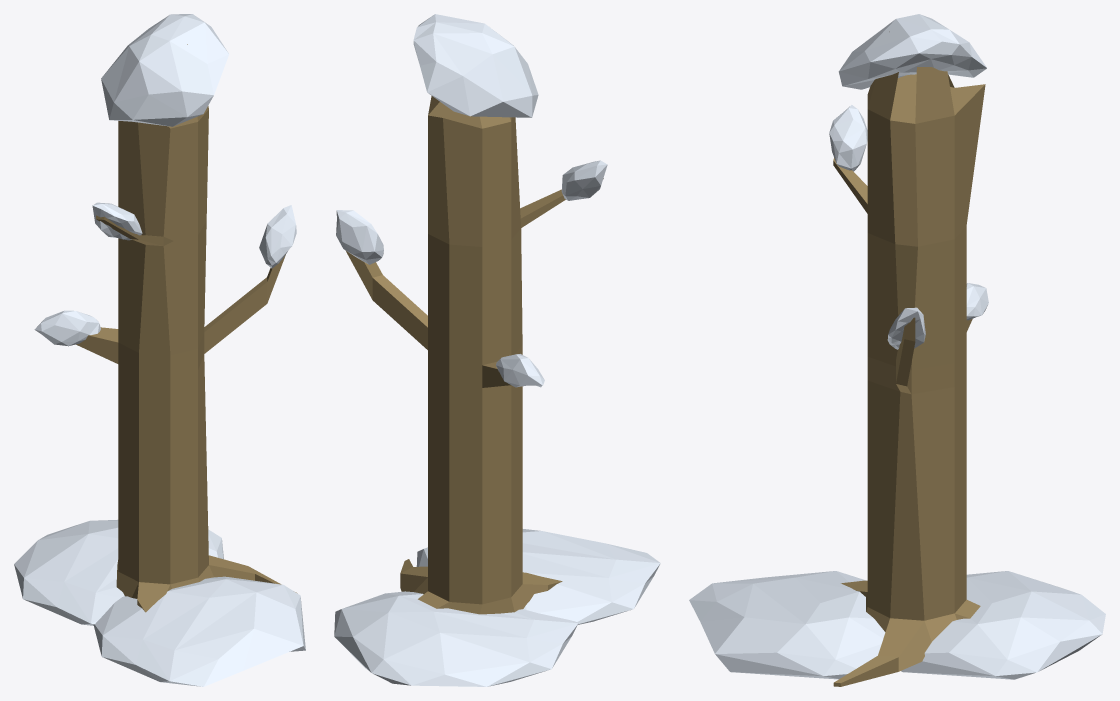
Rendered from Tree3.fbx.
3 views of the same model, side by side, from view 1: azimuth 30°, elevation 25°; view 2: azimuth 150°, elevation 25°; view 3: azimuth 270°, elevation 25° (orthographic). The views are drawn at different scales.
Parts seen in each view (by area): view 1: Cylinder.001, Icosphere.021, Icosphere.015, Icosphere.022, Icosphere.017, Icosphere.016, Icosphere.018; view 2: Cylinder.001, Icosphere.022, Icosphere.015, Icosphere.021, Icosphere.016, Icosphere.018, Icosphere.017; view 3: Cylinder.001, Icosphere.021, Icosphere.022, Icosphere.015, Icosphere.018, Icosphere.016, Icosphere.017.
Boxes of the visible parts, bbox=[...] form: Cylinder.001: bbox=[76, 44, 297, 612]; Icosphere.021: bbox=[93, 576, 305, 686]; Icosphere.015: bbox=[101, 14, 229, 126]; Icosphere.022: bbox=[14, 519, 223, 625]; Icosphere.017: bbox=[34, 310, 100, 346]; Icosphere.016: bbox=[259, 205, 296, 268]; Icosphere.018: bbox=[92, 202, 142, 240]; Cylinder.001: bbox=[345, 96, 603, 614]; Icosphere.022: bbox=[334, 591, 578, 686]; Icosphere.015: bbox=[413, 14, 538, 117]; Icosphere.021: bbox=[416, 529, 660, 624]; Icosphere.016: bbox=[336, 210, 383, 264]; Icosphere.018: bbox=[561, 160, 607, 200]; Icosphere.017: bbox=[496, 354, 544, 387]; Cylinder.001: bbox=[833, 31, 985, 686]; Icosphere.021: bbox=[689, 571, 885, 679]; Icosphere.022: bbox=[901, 571, 1105, 679]; Icosphere.015: bbox=[838, 14, 986, 89]; Icosphere.018: bbox=[829, 105, 867, 171]; Icosphere.016: bbox=[887, 307, 925, 349]; Icosphere.017: bbox=[966, 283, 988, 320].
Size of the model in its own units: 261 by 604 by 363.
